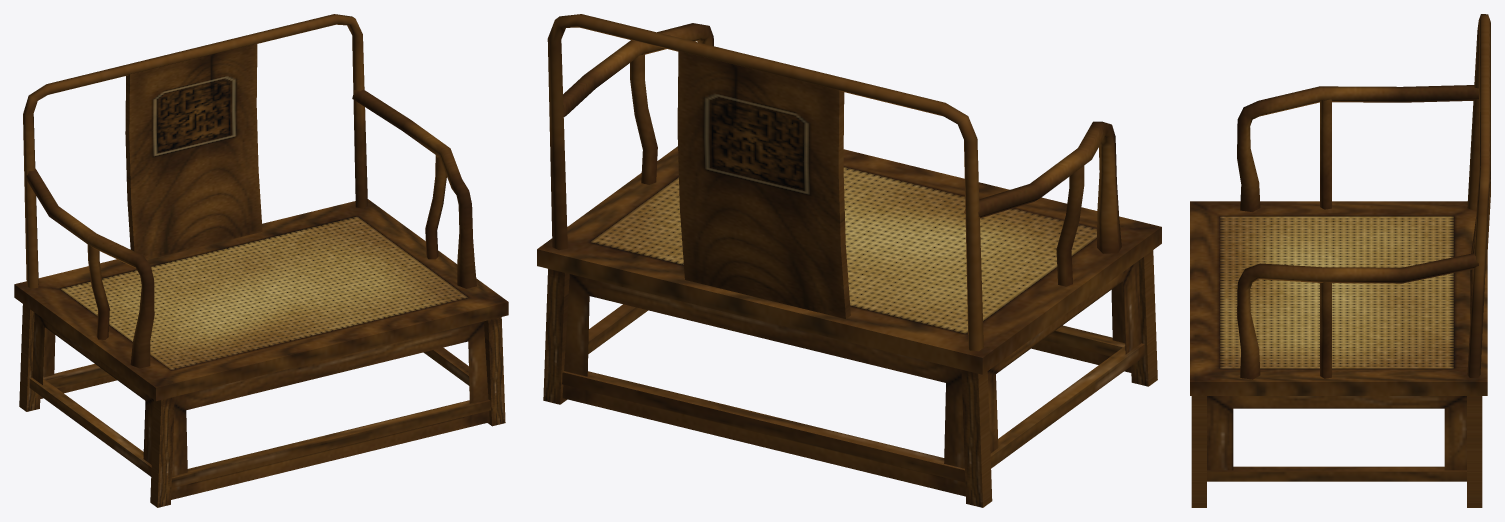
The model's file is SwordSpirit_Room_chair.FBX.
3 views of the same model, side by side, from view 1: azimuth 30°, elevation 25°; view 2: azimuth 150°, elevation 25°; view 3: azimuth 270°, elevation 25° (orthographic). The views are drawn at different scales.
Visible parts, largest first — view 1: Box09; view 2: Box09; view 3: Box09.
Part boxes in pixels (bbox=[...]): Box09: bbox=[14, 14, 508, 507]; Box09: bbox=[537, 14, 1161, 507]; Box09: bbox=[1190, 14, 1490, 507].
Bounding box in the file's own units: 65.03 × 53.36 × 44.25.
1 material, 1 textured.
